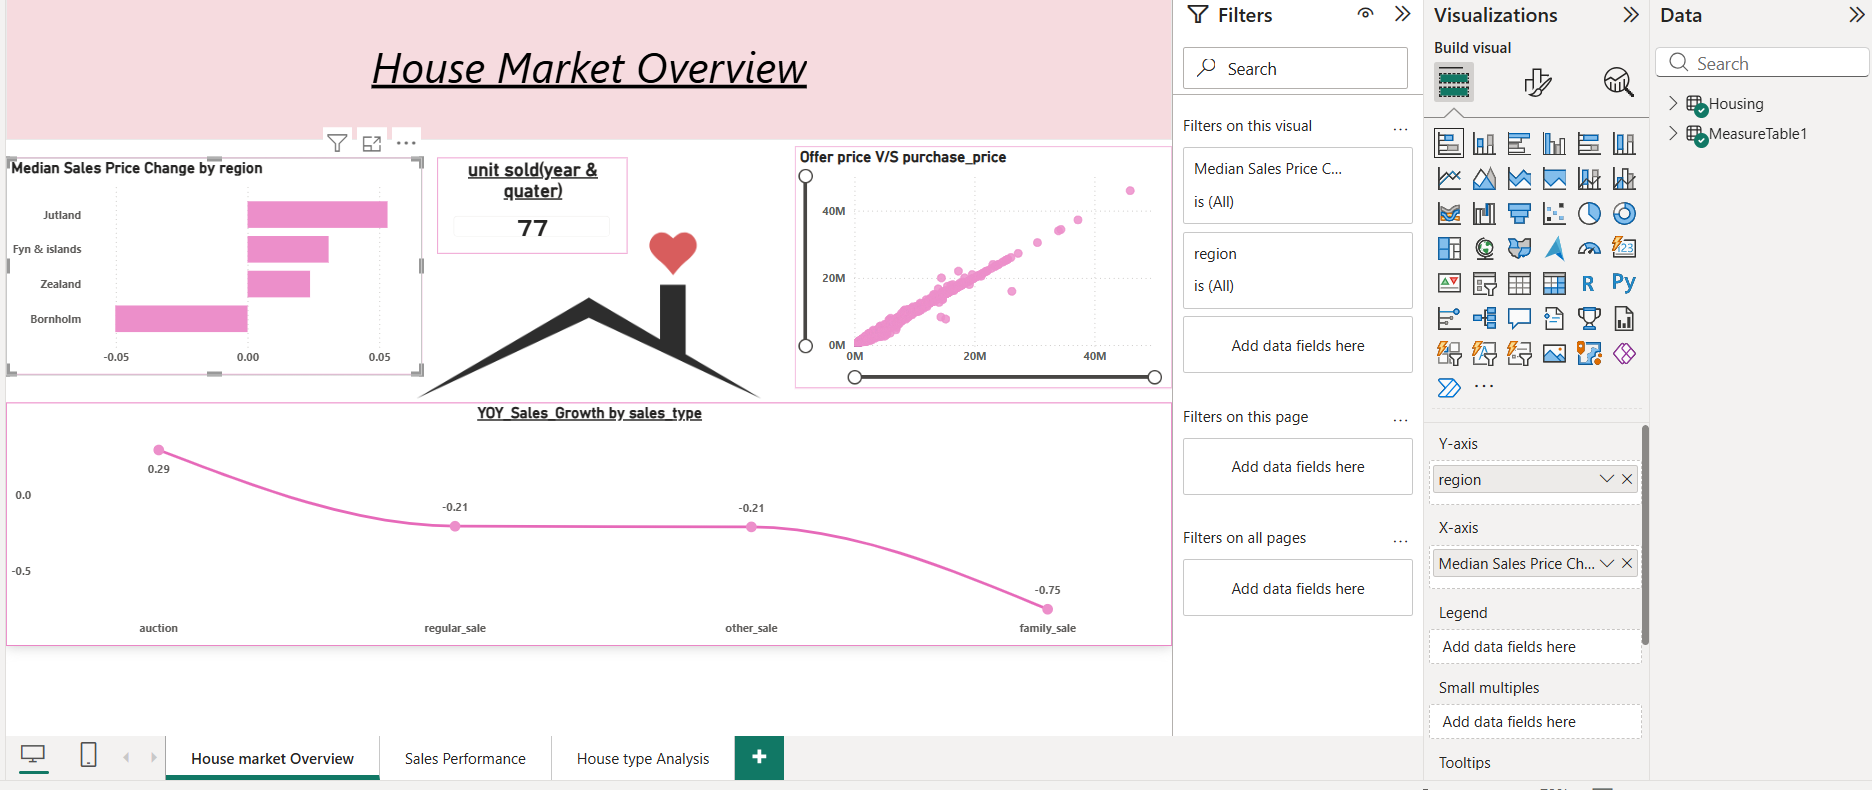

This screenshot's page, from the dashboard's own definition file:
{"tool":"powerbi","page":{"name":"House market Overview","canvas":[1280,720],"ordinal":0},"visuals":[{"type":"shape","box":[0,0,1280.3,164.7],"z":0},{"type":"lineChart","fields":{"Y":["Housing.YOY_Sales_Growth"],"Category":["Housing.sales_type"]},"box":[0,452.9,1280,267.1],"z":1000},{"type":"scatterChart","title":"Offer price V/S purchase_price","fields":{"X":["Housing.Offer price"],"Y":["Housing.purchase_price"]},"box":[865.7,171.4,414.3,265.7],"z":2000},{"type":"barChart","fields":{"Y":["Housing.Median Sales Price Change"],"Category":["Housing.region"]},"box":[0,184.3,457.1,238.6],"z":3000},{"type":"cardVisual","title":"unit sold(year & quater)","fields":{"Data":["Housing.Units Sold in Latest Year & Quarter"]},"box":[472.9,184.3,208.6,105.7],"z":4000}]}

Visuals, with their boxes on the page's 1280x720 design canvas (x1, y1, x2, y2). These are canvas units, not pixel positions in the 1872x790 screenshot, which may show the page scaled, cropped or inside an application window:
shape: crop(0, 0, 1280, 165)
lineChart - Housing.YOY_Sales_Growth x Housing.sales_type: crop(0, 453, 1280, 720)
"Offer price V/S purchase_price" scatterChart: crop(866, 171, 1280, 437)
barChart - Housing.Median Sales Price Change x Housing.region: crop(0, 184, 457, 423)
"unit sold(year & quater)" cardVisual: crop(473, 184, 682, 290)
